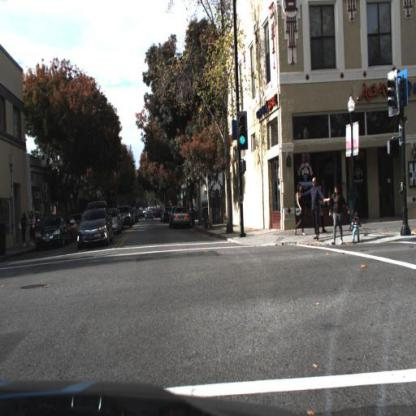car: (73, 208, 113, 255), (33, 217, 68, 255), (108, 208, 122, 244), (172, 205, 190, 229), (112, 208, 125, 235), (122, 203, 134, 230)
pedestrian: (300, 175, 324, 243), (327, 184, 350, 247), (330, 176, 351, 244), (292, 181, 307, 235), (317, 181, 329, 237), (350, 210, 365, 246), (28, 210, 40, 250), (20, 209, 30, 249), (20, 214, 28, 250), (29, 210, 36, 250)
trafficLight: (238, 114, 249, 154)
